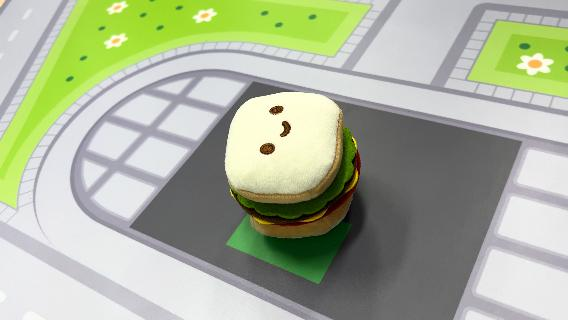sandwich: (223, 89, 363, 239)
